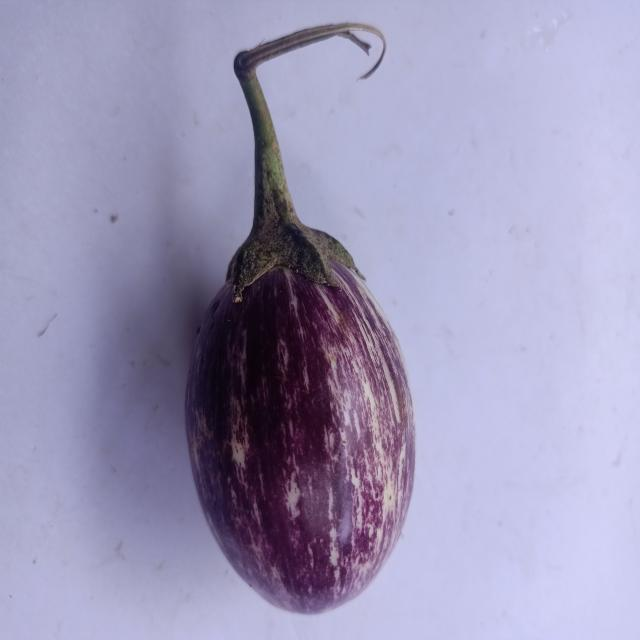Eggplant: (167, 16, 446, 616)
